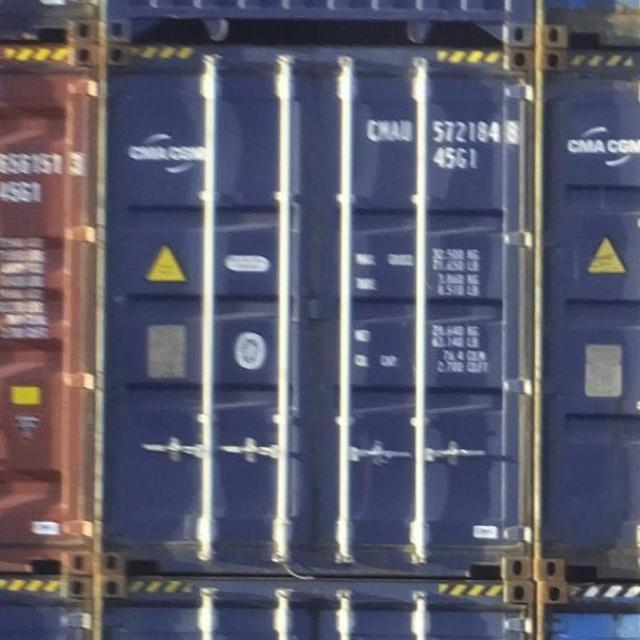ISO: (432, 142, 481, 172)
container_number: (364, 113, 526, 144)
